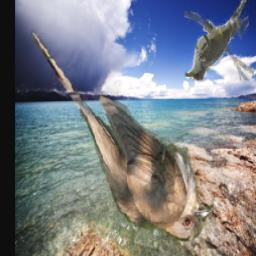Cuckoo: (32, 29, 215, 241), (185, 0, 255, 82)
